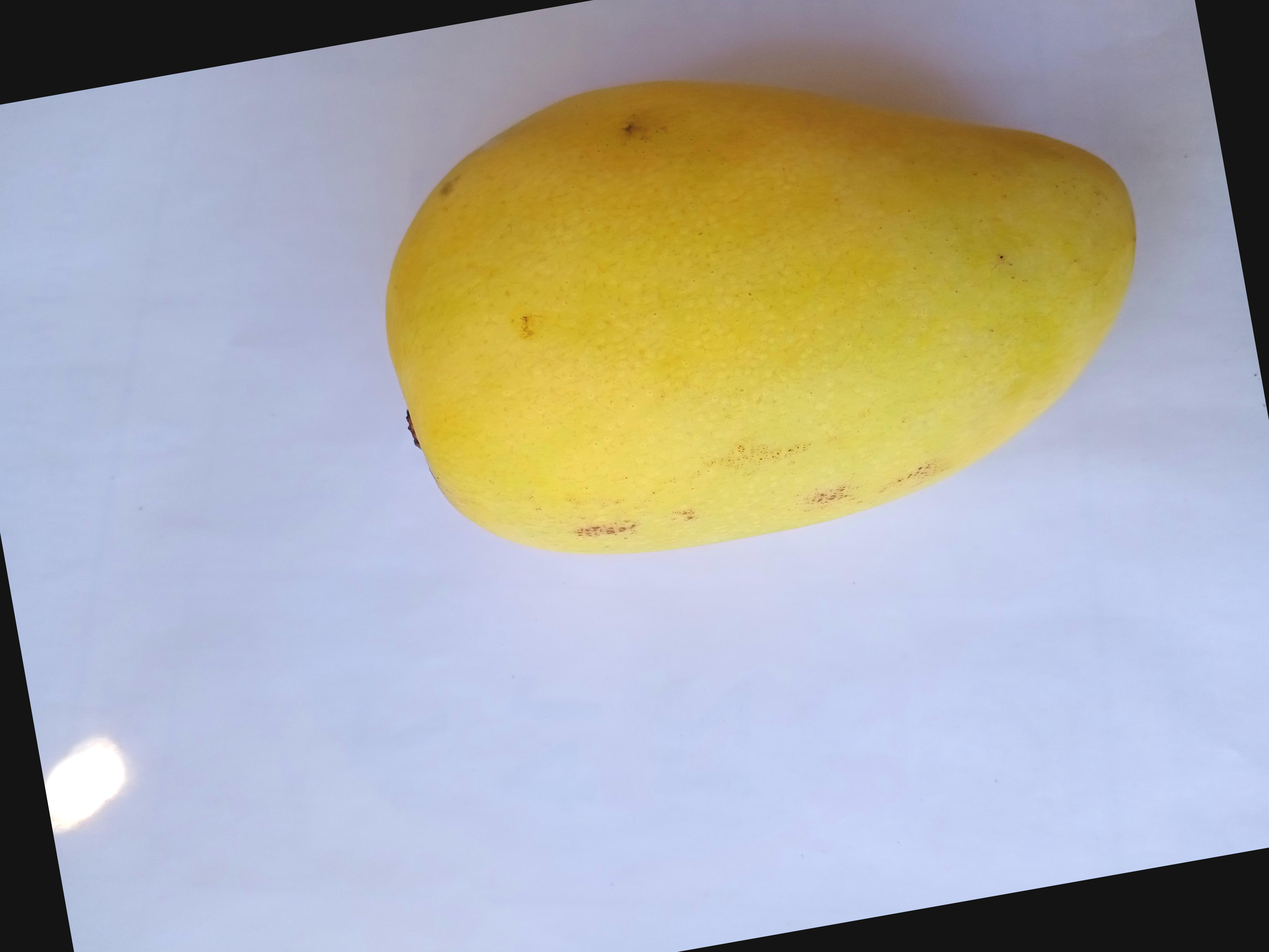Mango Ripe: (182, 104, 1140, 804)
